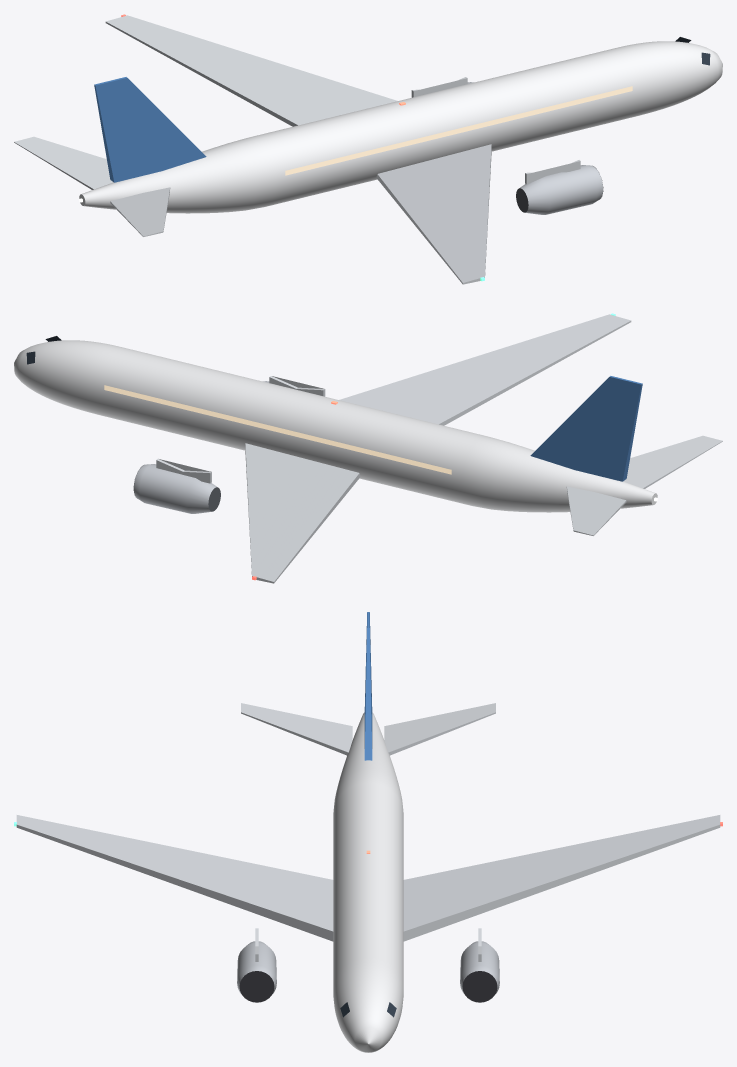
Rendered from wide.glb.
3 views of the same model, one above another, from view 1: azimuth 30°, elevation 25°; view 2: azimuth 150°, elevation 25°; view 3: azimuth 270°, elevation 25° (orthographic).
Visible parts, largest first — view 1: main; view 2: main; view 3: main.
Part boxes in pixels (<box>): main: <box>14,14,722,284</box>; main: <box>14,313,722,583</box>; main: <box>14,612,722,1052</box>.
Size of the model in its own units: 64.36 by 17.45 by 62.33.
